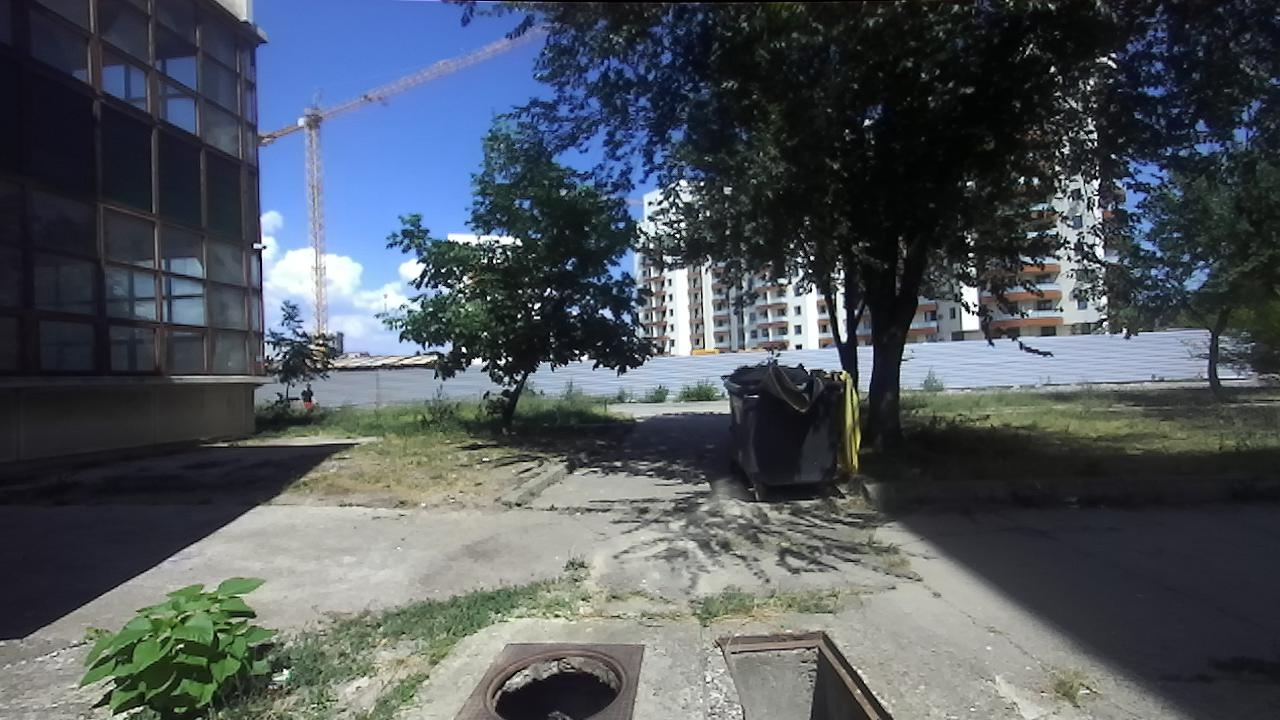drain: (712, 626, 893, 719), (475, 642, 632, 719)
